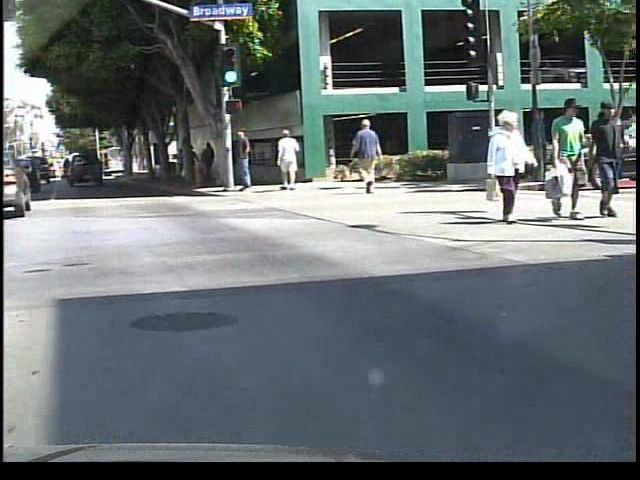person: (485, 112, 539, 227), (550, 98, 590, 223), (589, 101, 627, 220), (352, 119, 391, 194), (527, 107, 558, 182), (238, 123, 267, 201), (279, 126, 307, 194), (205, 138, 223, 186), (190, 143, 206, 187)
